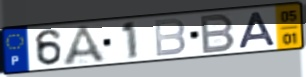1: (120, 20, 140, 61)
6: (33, 28, 64, 68)
A: (61, 23, 109, 67), (237, 10, 278, 51)
B: (200, 12, 238, 55), (153, 17, 188, 58)
